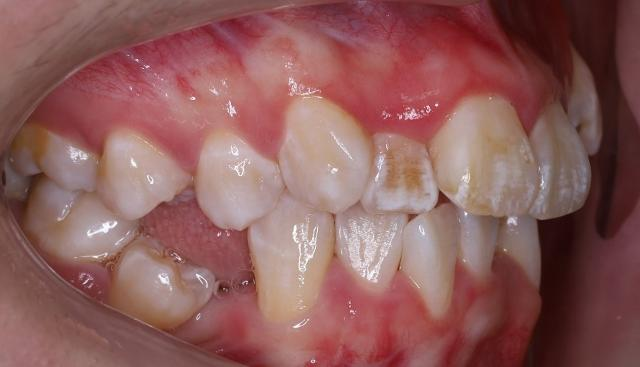canine class II full class: (210, 84, 382, 327)
molar class III 1/4: (8, 118, 140, 268)
